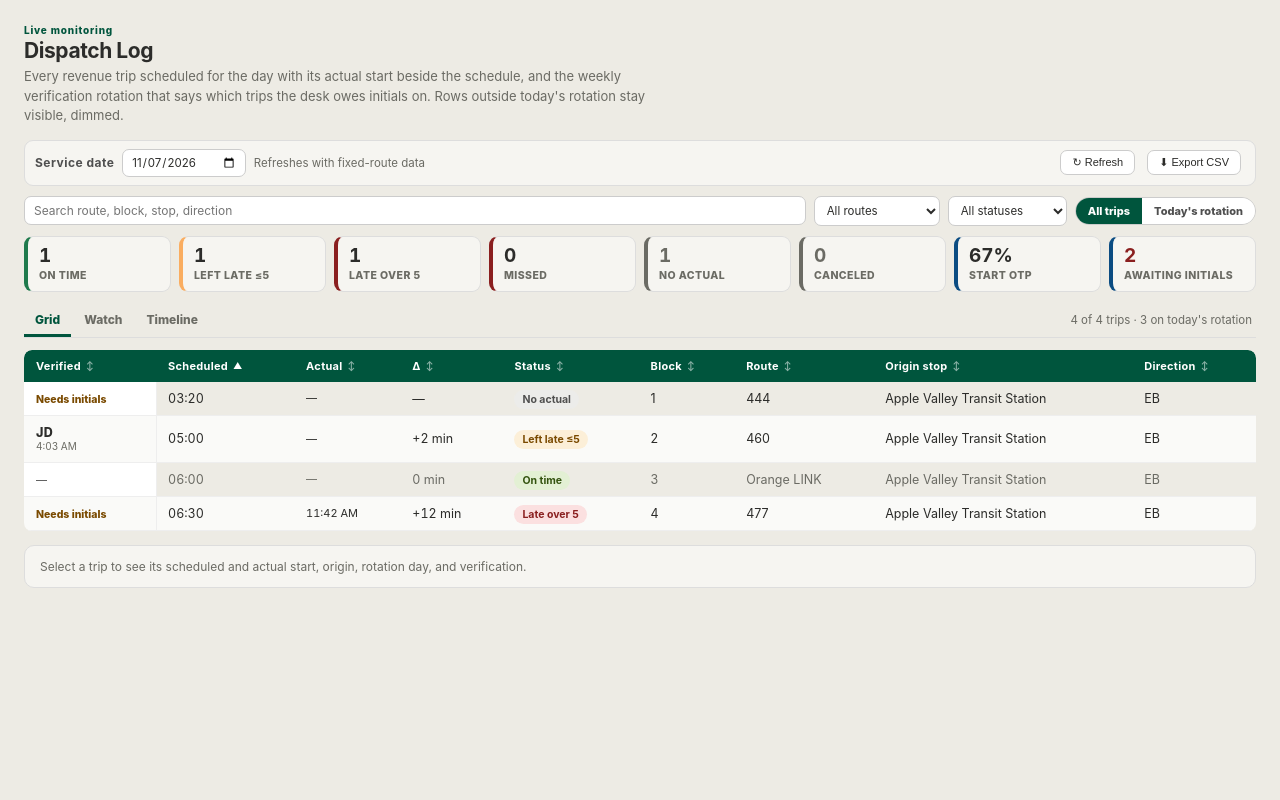
Dispatch Log shell › shows the Watch and Timeline views over the same filtered rows and selection
The image size is (1280, 800).
expect the table named "Dispatch log trips" is shown: met, box x1=24 y1=350 x2=1256 y2=531
Step 1. Click the tab "Watch" → (103, 320), box x1=73 y1=304 x2=134 y2=337
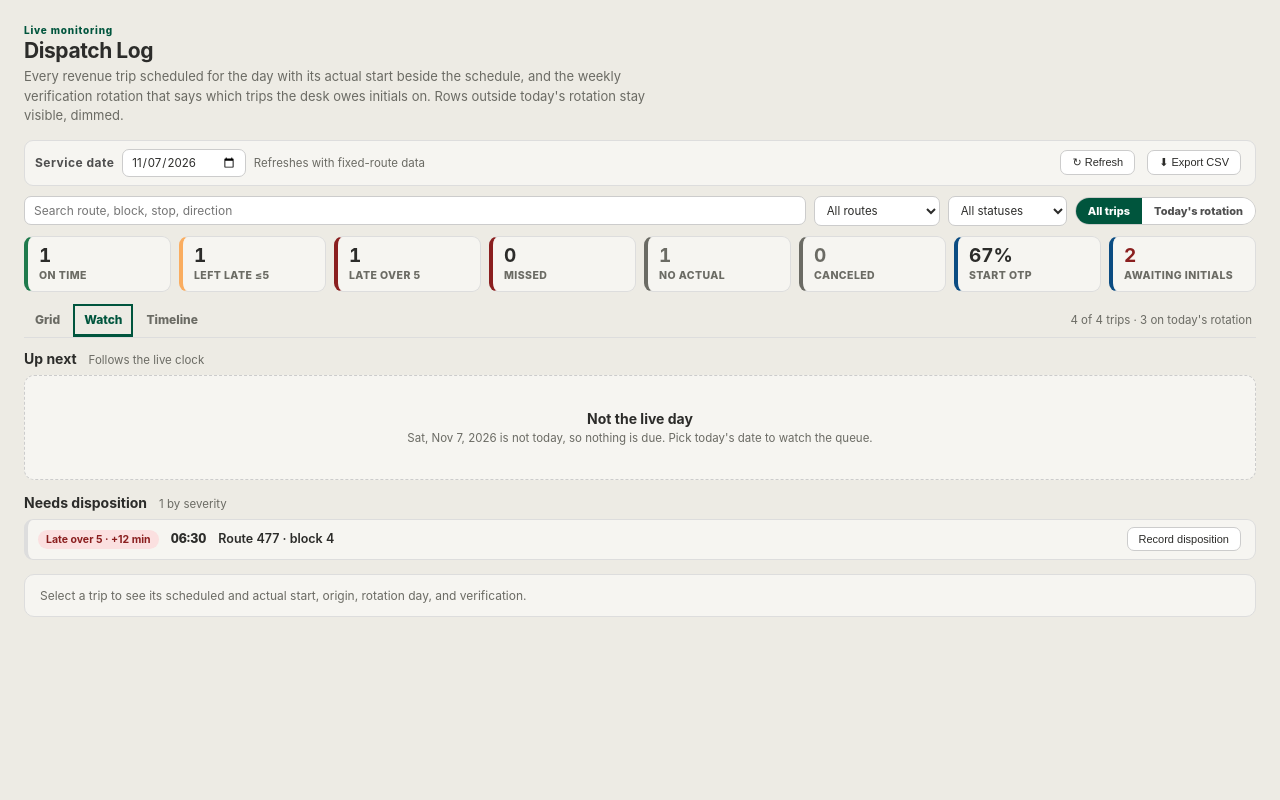
expect the text "Not the live day" is shown: met, box x1=587 y1=410 x2=693 y2=427
expect the number of list items is 1: met, box x1=24 y1=519 x2=1256 y2=560
expect the list item shows "Late over 5 · +12 min": met, box x1=24 y1=519 x2=1256 y2=560
Step 2. Click the button "Late over 5 · +12 min 06:30 Route 477 · block 4" → (98, 539), box x1=36 y1=526 x2=1114 y2=553
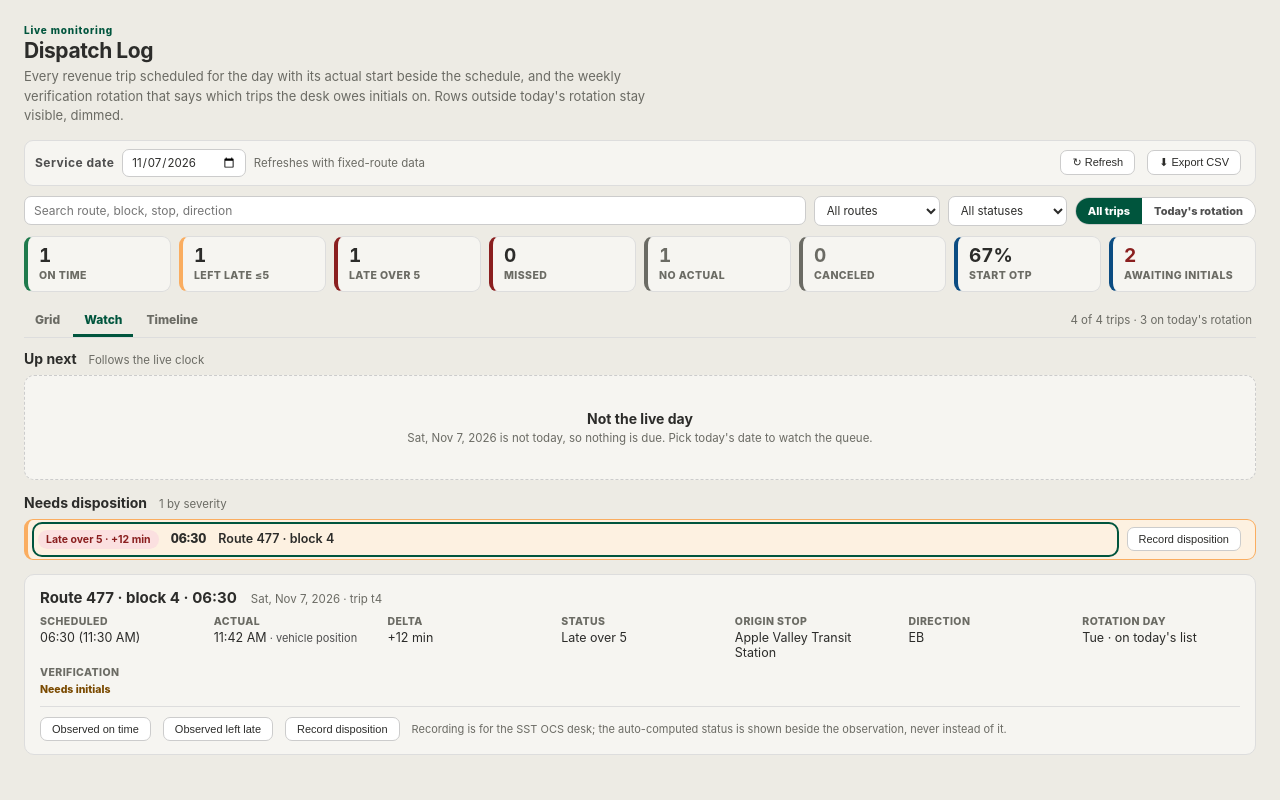
expect the element named "Trip details" shows "Route 477 · block 4 · 06:30": met, box x1=24 y1=574 x2=1256 y2=755
Step 3. Click the tab "Timeline" → (172, 320), box x1=135 y1=304 x2=209 y2=337
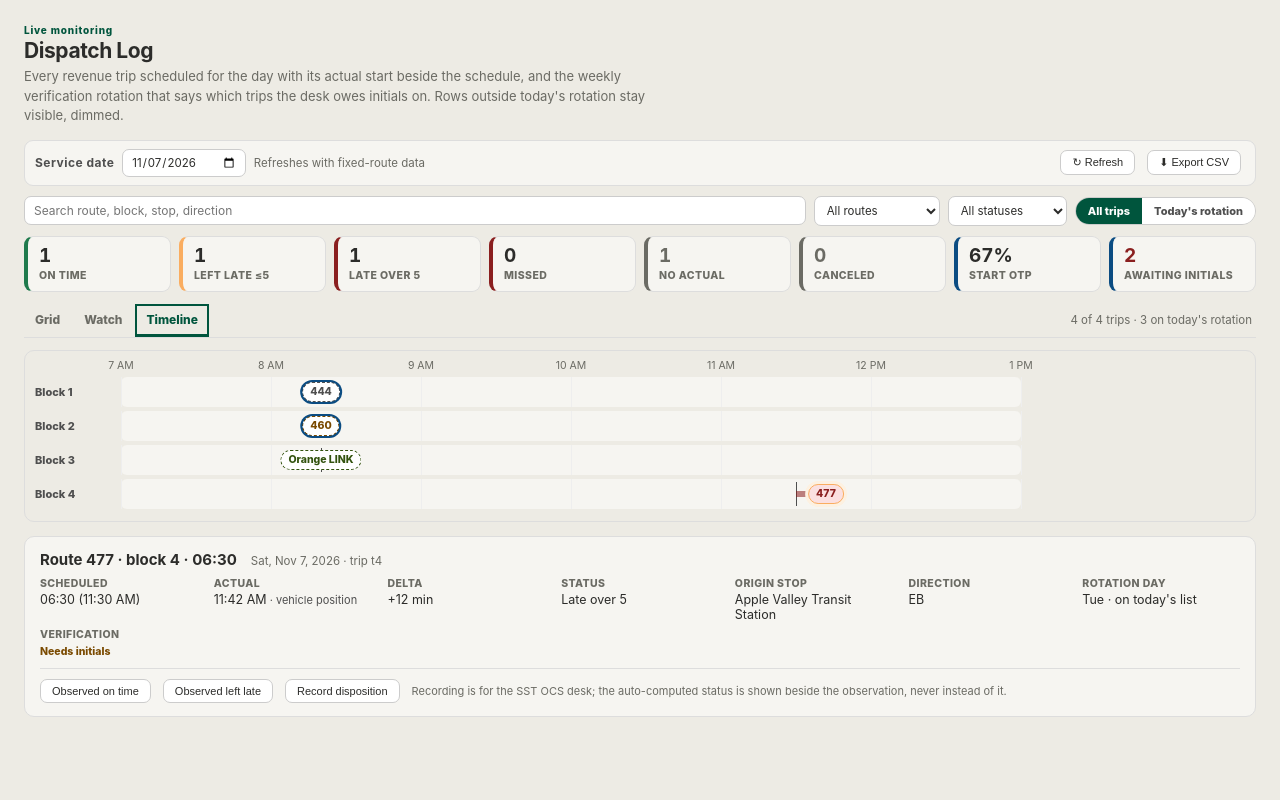
expect the number of list items is 4: met, box x1=25 y1=377 x2=1021 y2=407; x1=25 y1=411 x2=1021 y2=441; x1=25 y1=445 x2=1021 y2=475; x1=25 y1=479 x2=1021 y2=509
# Filtering collapses the timeline to the blocks that still qualify.
Step 4. Click the button "Today's rotation" → (1199, 211), box x1=1142 y1=198 x2=1255 y2=224
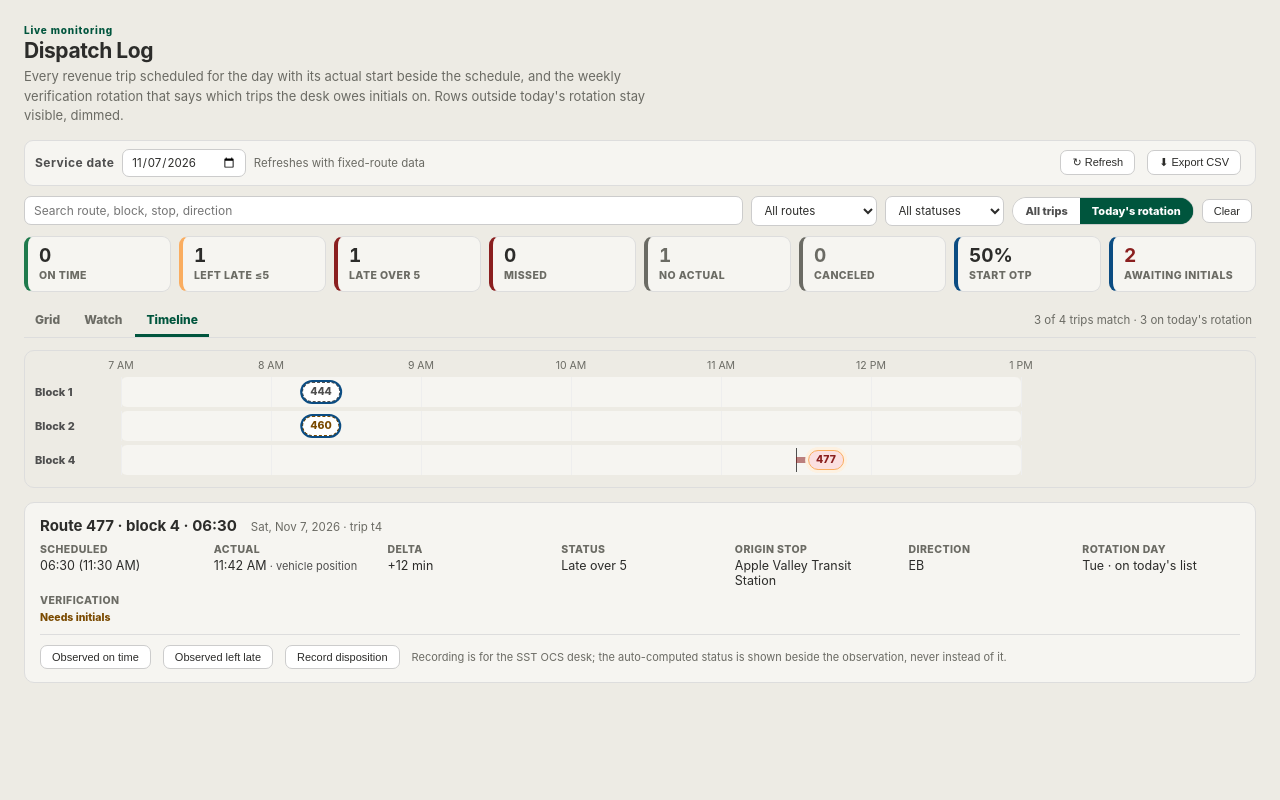
expect the number of list items is 3: met, box x1=25 y1=377 x2=1021 y2=407; x1=25 y1=411 x2=1021 y2=441; x1=25 y1=445 x2=1021 y2=475
